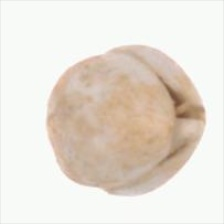L3: (161, 80, 205, 162)
L4: (47, 45, 205, 198)
